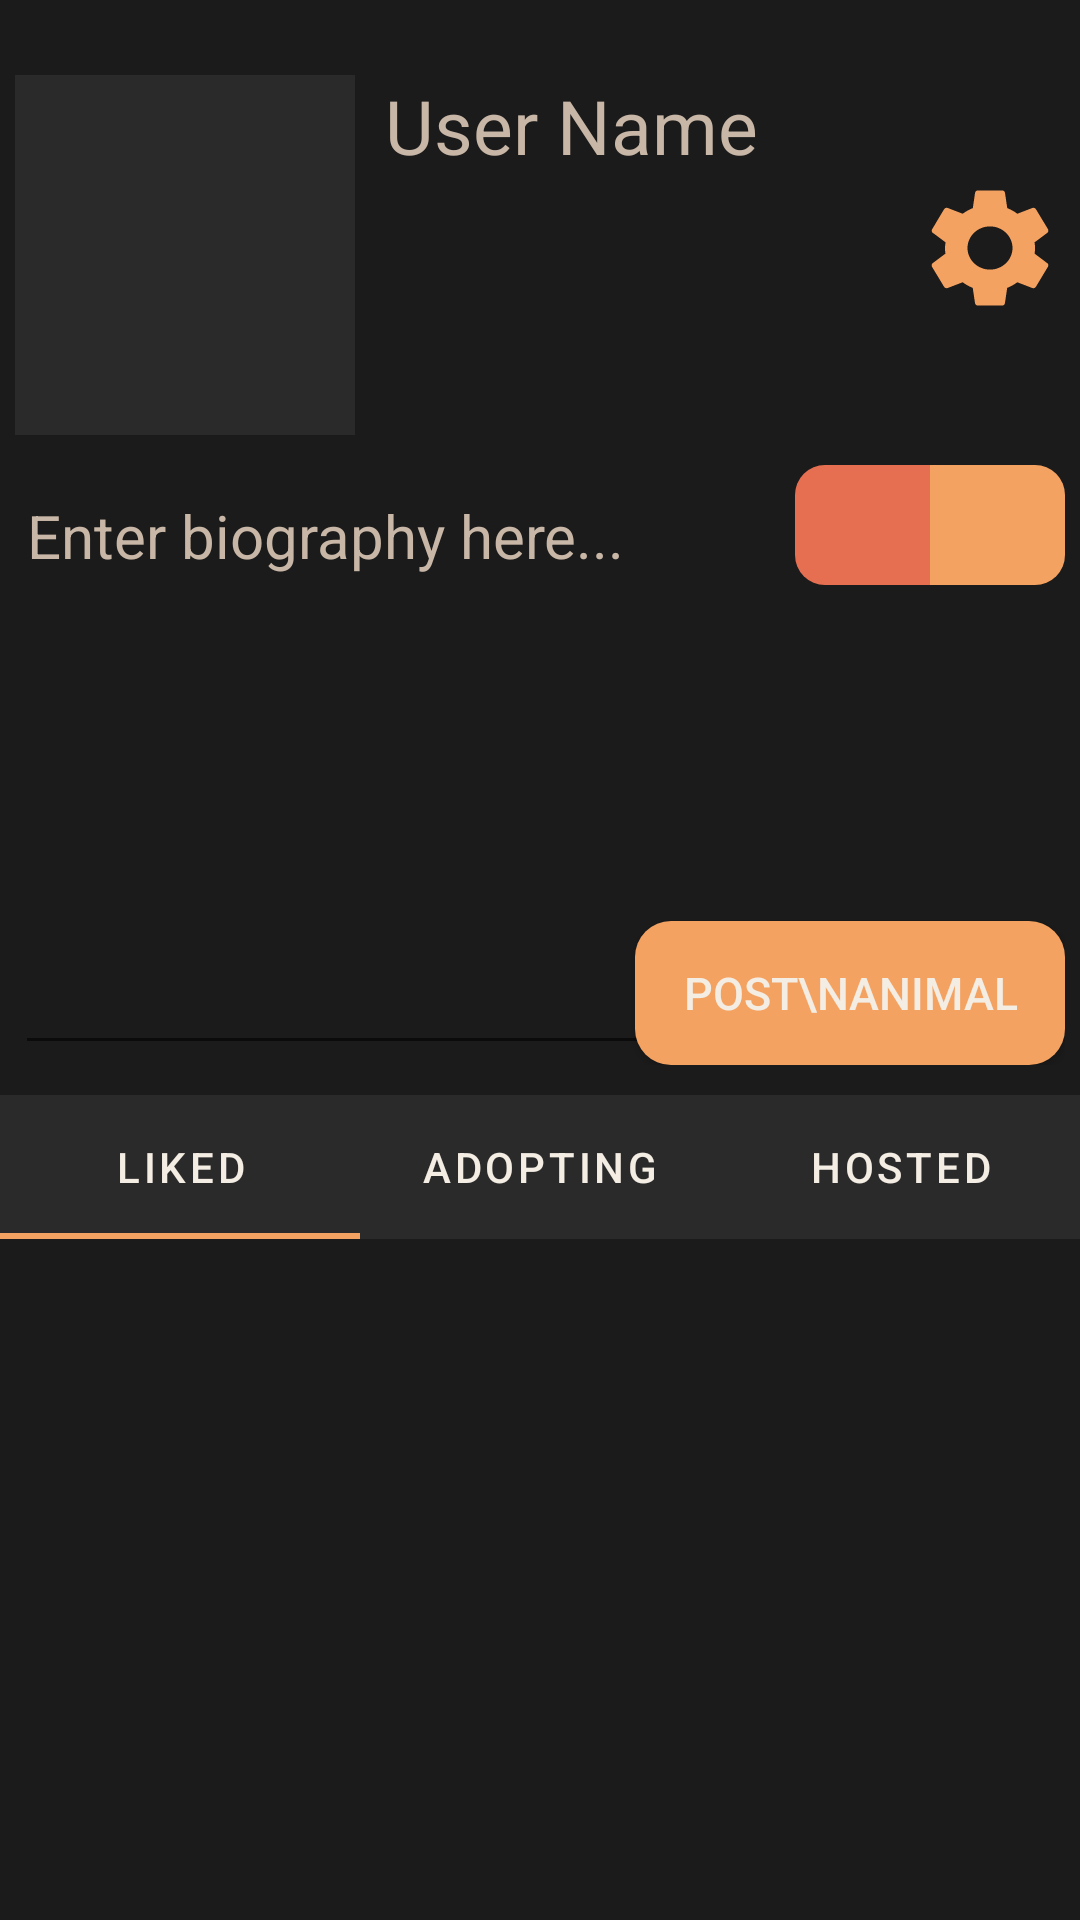

Icon bounding boxes for this 1080×1920 phone screenshot, format (x1, y1, x2, y2):
settings: (931, 190, 1049, 306)
